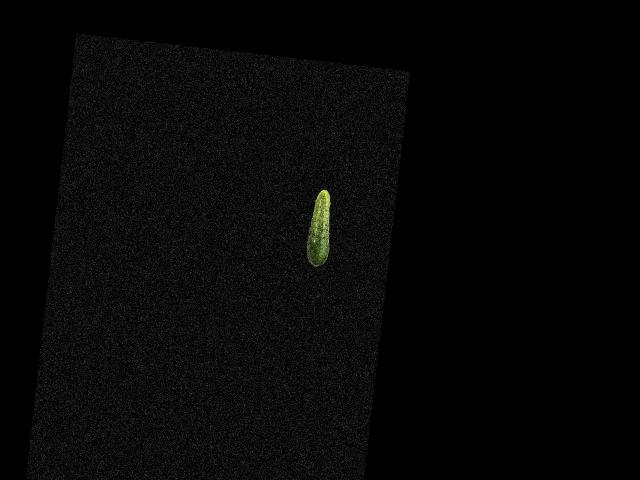cucumber: (303, 188, 335, 268)
